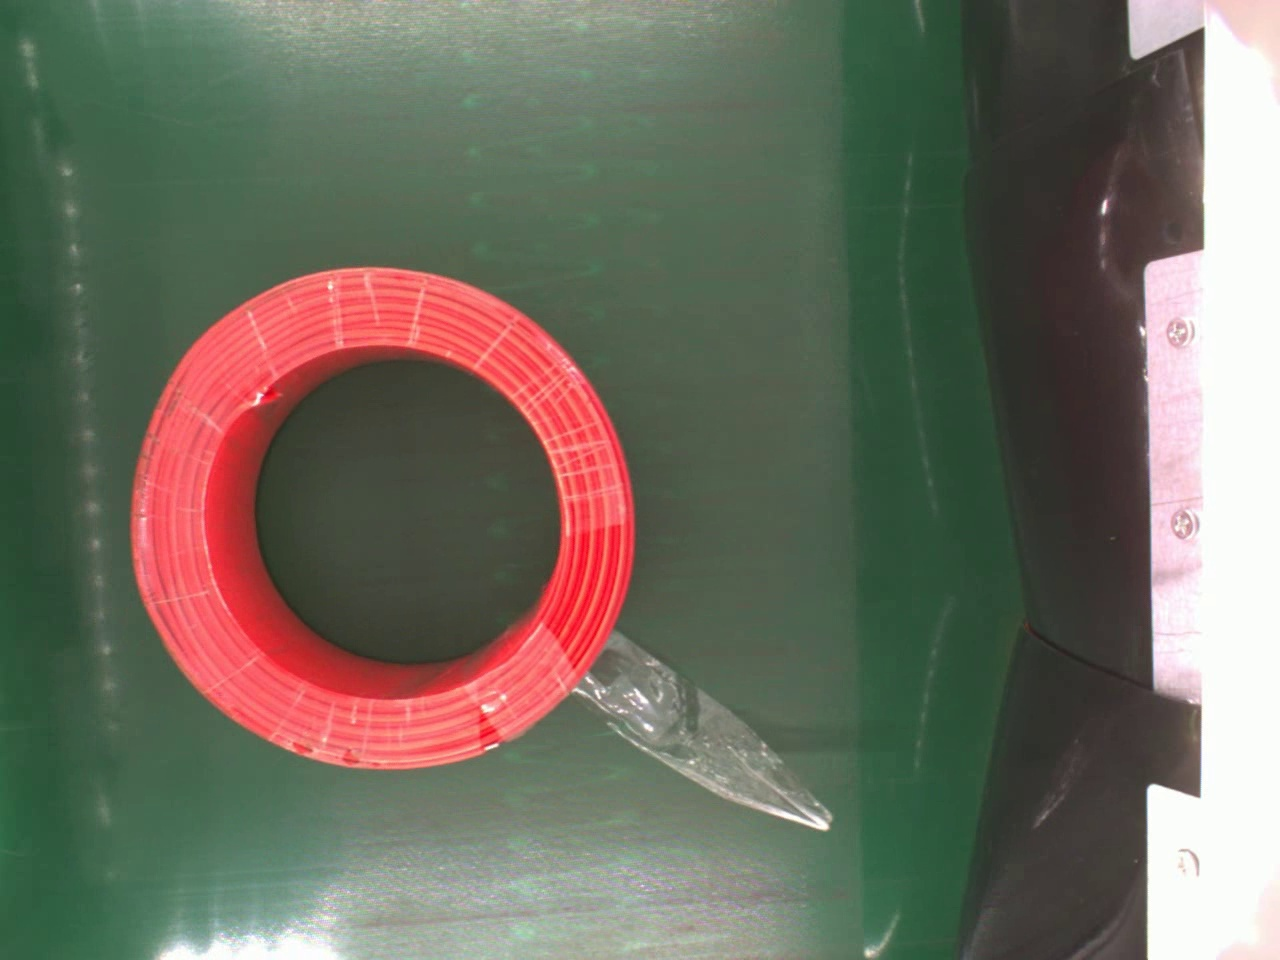red: (129, 262, 635, 772)
